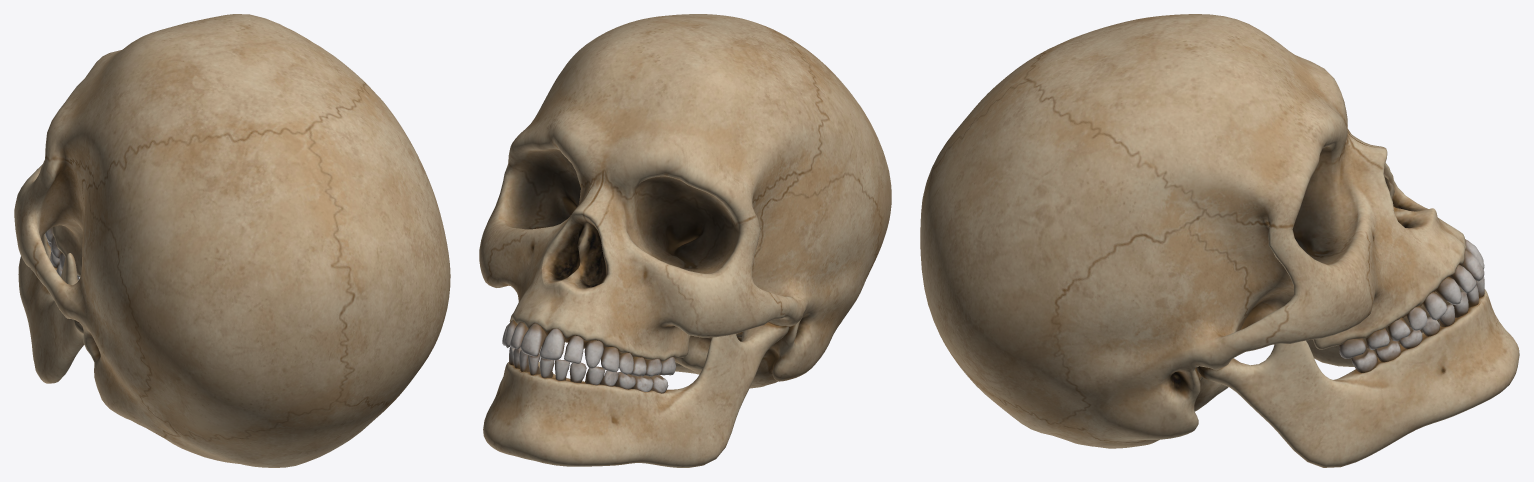
The model's file is teschio.glb.
3 renders of one model, left to right at view 1: azimuth 30°, elevation 25°; view 2: azimuth 150°, elevation 25°; view 3: azimuth 270°, elevation 25°, orthographic. The views are drawn at different scales.
Visible parts, largest first — view 1: defaultMaterial; view 2: defaultMaterial; view 3: defaultMaterial.
Boxes of the visible parts, x1=… form: defaultMaterial: x1=14, y1=14, x2=450, y2=467; defaultMaterial: x1=479, y1=14, x2=891, y2=467; defaultMaterial: x1=920, y1=14, x2=1519, y2=467.
Bounding box in the file's own units: 1.35 × 1.62 × 2.23.
1 material, 1 textured.
